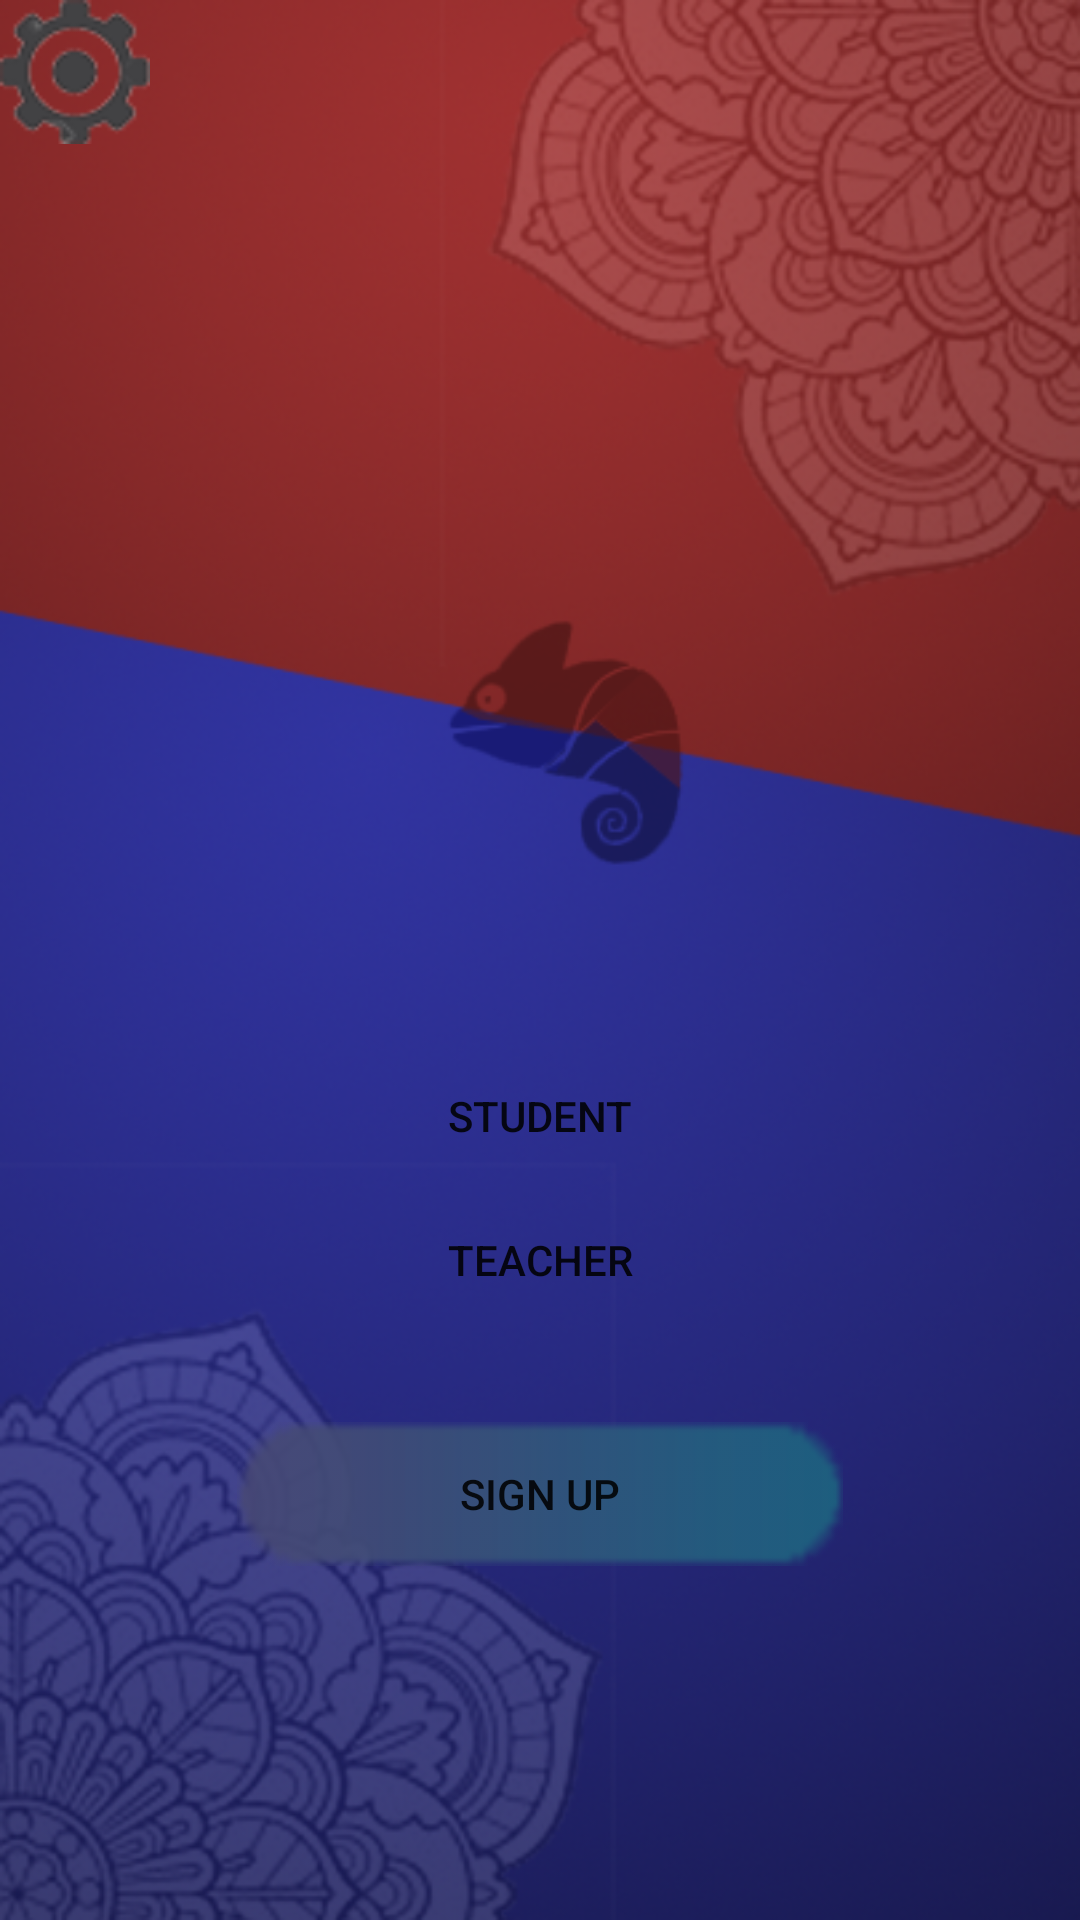

Icon bounding boxes for this 1080*1920 phone screenshot, format (x1, y1, x2, y2):
settingbuttn: (0, 0, 150, 144)
